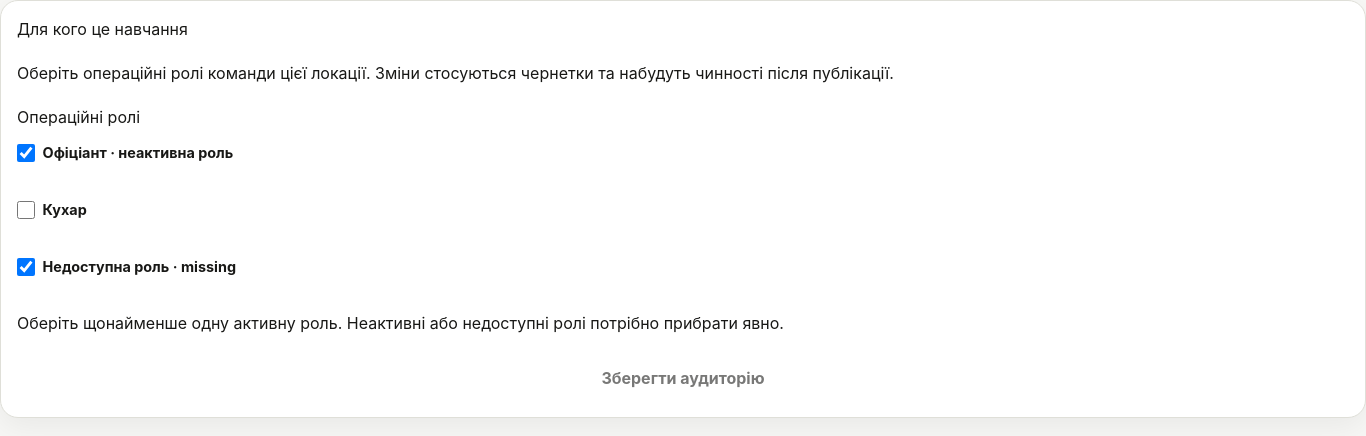
shows selected archived and unavailable roles until explicitly removed
Expected: the checkbox labelled "Недоступна роль · missing" is checked, x1=17 y1=243 x2=35 y2=291
Expected: the button "Зберегти аудиторію" is disabled, x1=17 y1=355 x2=1349 y2=401
Click the checkbox labelled "Офіціант · неактивна роль". click: (26, 153)
box: x1=17 y1=129 x2=35 y2=177
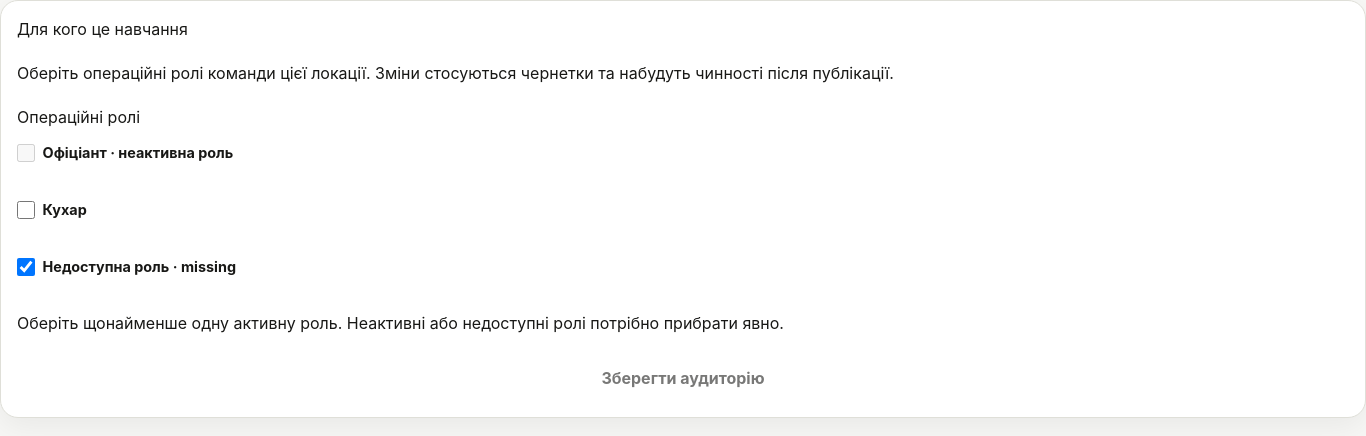
Click the checkbox labelled "Недоступна роль · missing". click: (26, 267)
box: x1=17 y1=243 x2=35 y2=291
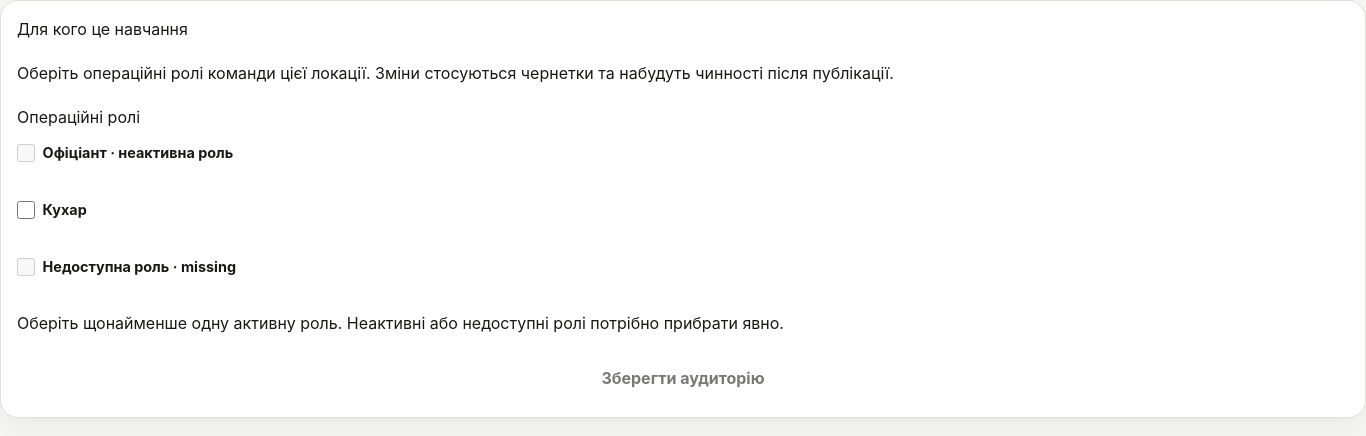
Click the checkbox labelled "Кухар". click: (26, 210)
box: x1=17 y1=186 x2=35 y2=234
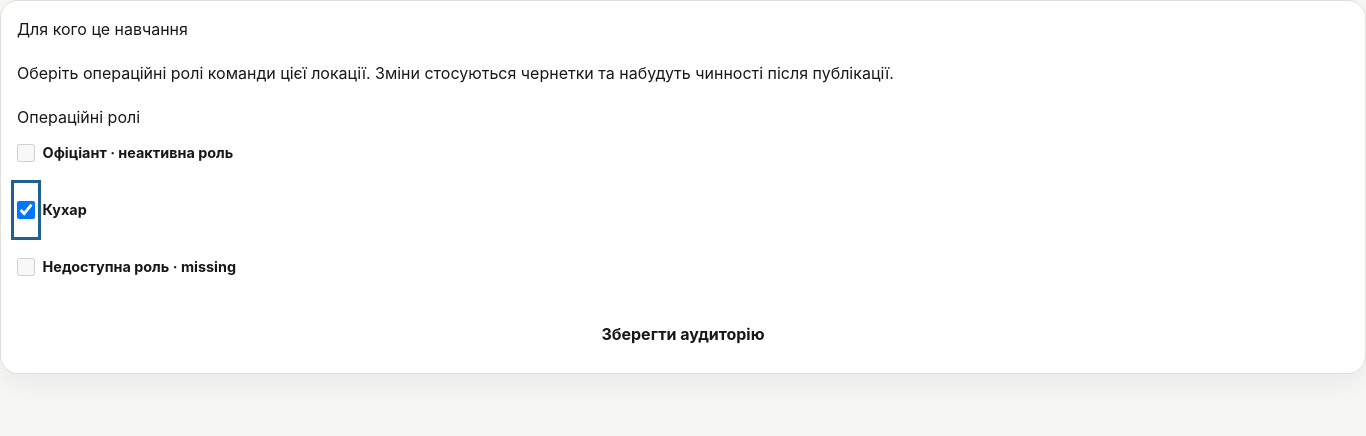
Result: the button "Зберегти аудиторію" is enabled at x1=17 y1=311 x2=1349 y2=357
